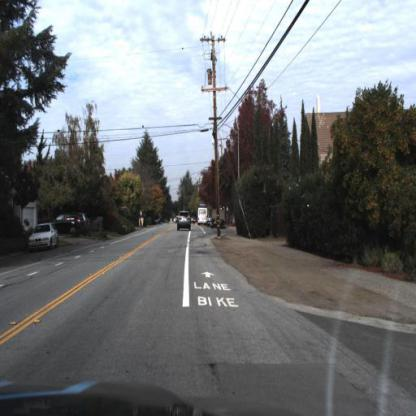car: (28, 220, 59, 255), (27, 221, 60, 251), (55, 217, 83, 235), (211, 207, 231, 231), (176, 208, 193, 236), (74, 212, 95, 233), (196, 207, 209, 228)
